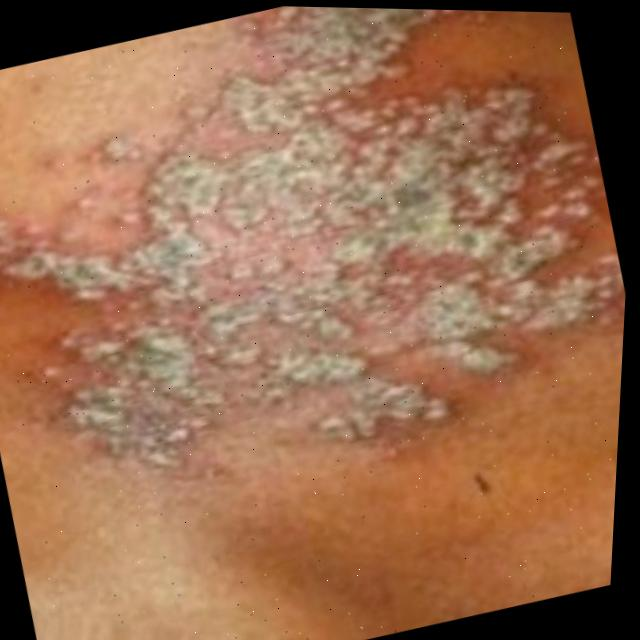Shingles: (0, 0, 640, 534)
